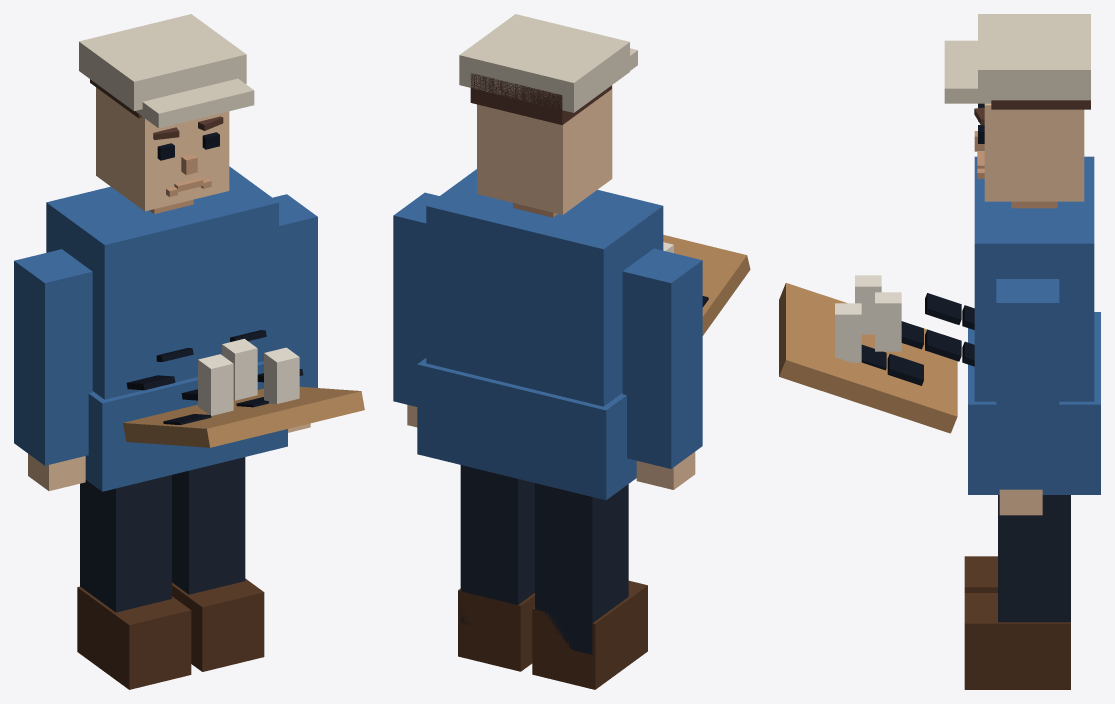
File: npc_lyoha.glb
3 renders of one model, left to right at view 1: azimuth 30°, elevation 25°; view 2: azimuth 150°, elevation 25°; view 3: azimuth 270°, elevation 25°, orthographic. The views are drawn at different scales.
Parts seen in each view (by area): view 1: npc_lyoha; view 2: npc_lyoha; view 3: npc_lyoha.
Part boxes in pixels (left/top/right/bottom): npc_lyoha: left=14, top=14, right=364, bottom=689; npc_lyoha: left=393, top=14, right=750, bottom=689; npc_lyoha: left=779, top=14, right=1100, bottom=689.
Bounding box in the file's own units: 0.97 × 2.04 × 0.9685.
1 material, 1 textured.
